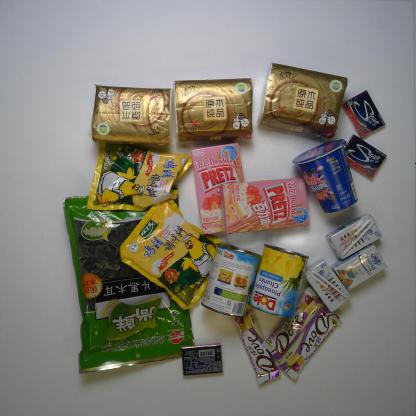Canned Food: (246, 242, 311, 321), (200, 241, 262, 319)
Chocolate: (260, 284, 327, 363), (277, 306, 344, 382), (229, 304, 280, 386)
Dessert: (190, 142, 252, 236), (218, 175, 311, 237), (290, 138, 358, 215)
Dried Food: (61, 183, 198, 375)
Gum: (341, 87, 387, 140), (340, 132, 387, 180), (180, 342, 224, 377)
Milk: (324, 211, 383, 262), (303, 256, 353, 315), (329, 243, 389, 292)
Seasoner: (120, 189, 230, 310), (85, 134, 194, 214)
Tissue: (258, 58, 352, 144), (87, 82, 173, 148), (171, 77, 256, 143)
